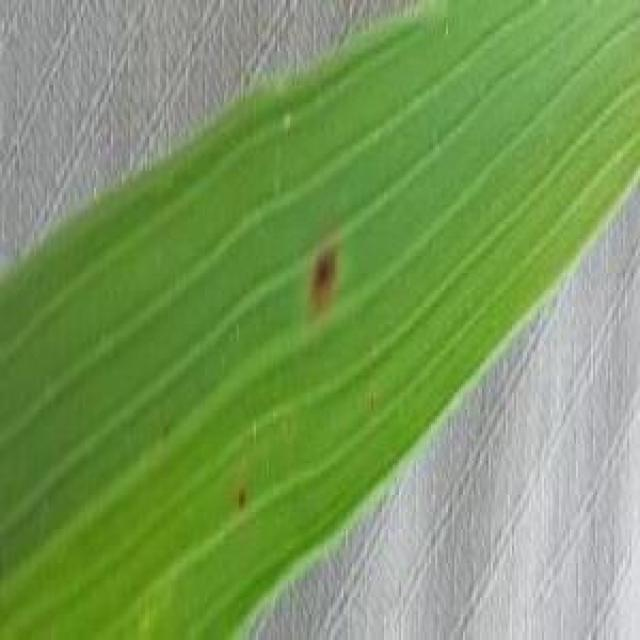brownspots: (300, 246, 356, 316)
